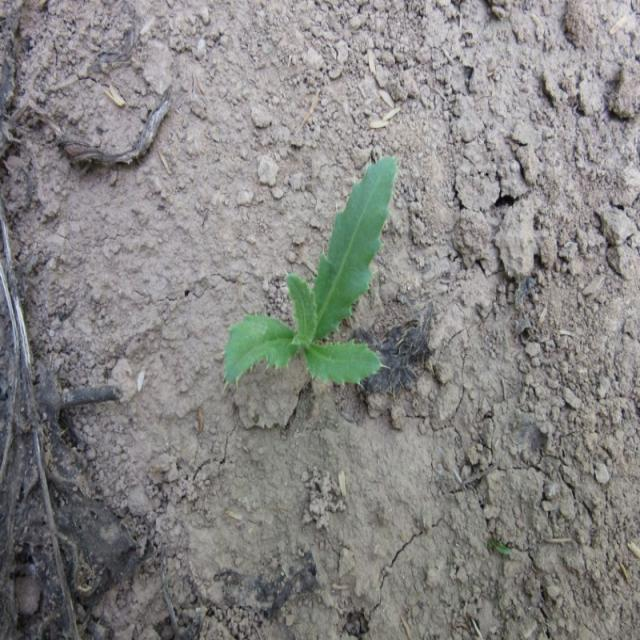field_thistle: (235, 166, 411, 470)
